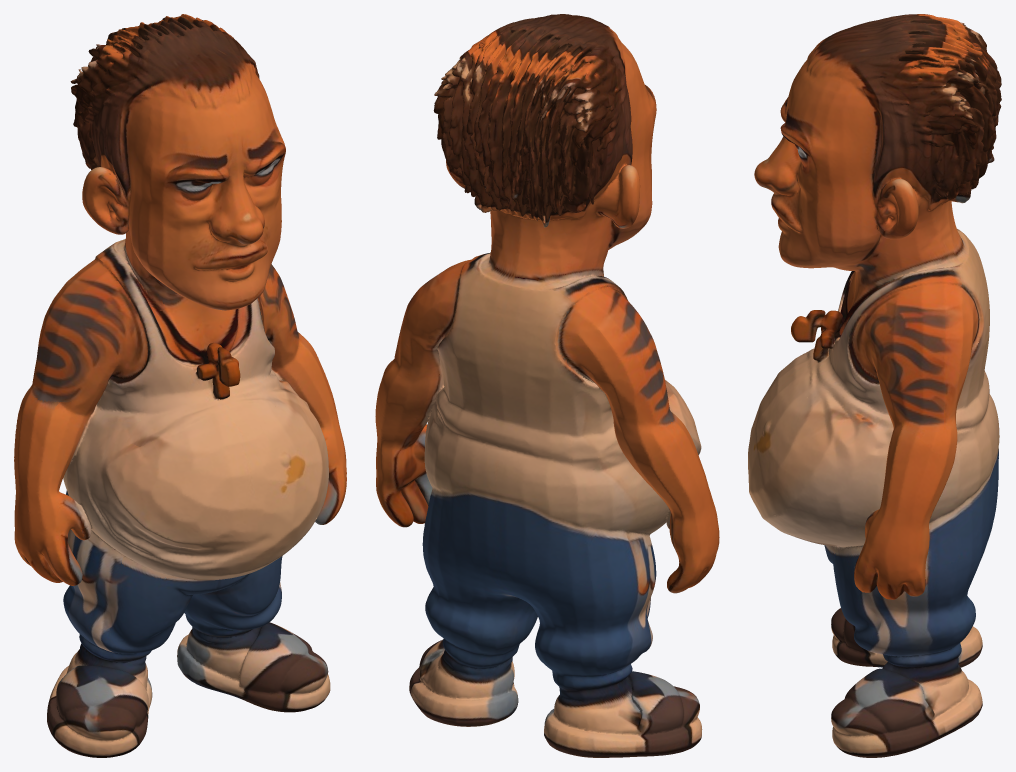
The model's file is neighbor.glb.
The picture shows the model from 3 angles, left to right: view 1: azimuth 30°, elevation 25°; view 2: azimuth 150°, elevation 25°; view 3: azimuth 270°, elevation 25°; orthographic projection. The views are drawn at different scales.
Visible parts, largest first — view 1: tripo_node_5cf6b12f-76fe-4014-b249-53d323323cd5; view 2: tripo_node_5cf6b12f-76fe-4014-b249-53d323323cd5; view 3: tripo_node_5cf6b12f-76fe-4014-b249-53d323323cd5.
Boxes of the visible parts, x1,y1,x2,y2 form: tripo_node_5cf6b12f-76fe-4014-b249-53d323323cd5: (14,14,346,757); tripo_node_5cf6b12f-76fe-4014-b249-53d323323cd5: (375,14,719,757); tripo_node_5cf6b12f-76fe-4014-b249-53d323323cd5: (748,14,1001,757).
Bounding box in the file's own units: 0.4913 × 1 × 0.3411.
Materials: 1 (1 with a texture image).
